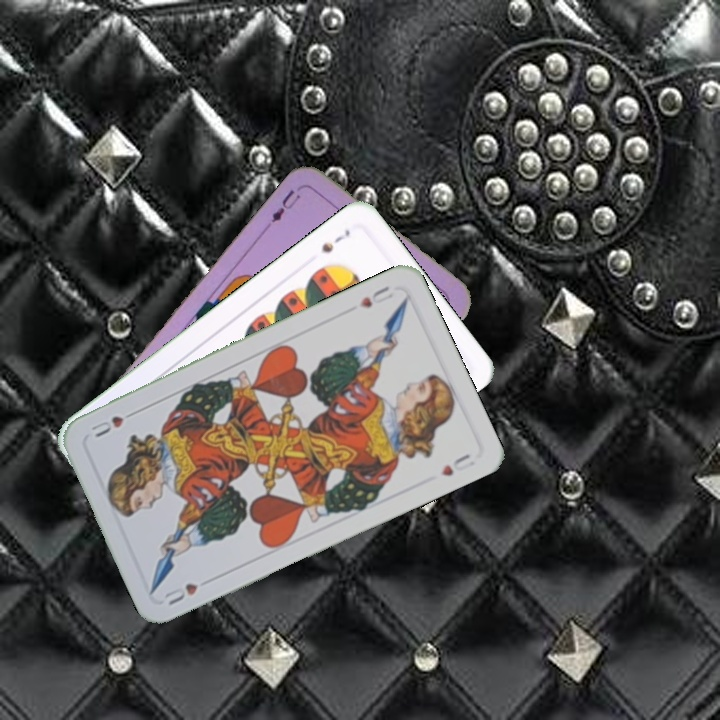EU: (267, 185, 303, 226)
HU: (160, 579, 201, 608), (354, 282, 396, 310)
S7: (317, 225, 353, 256)
